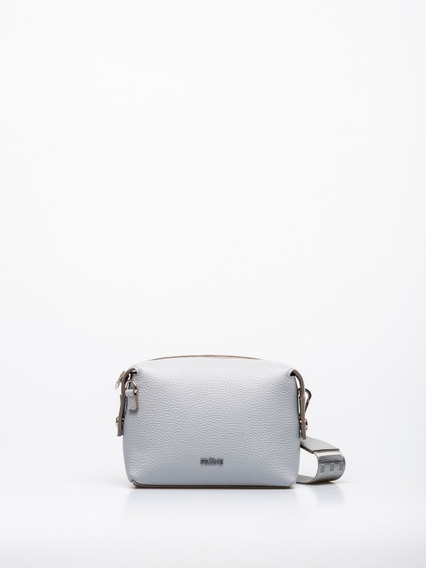cartera: (113, 352, 347, 491)
